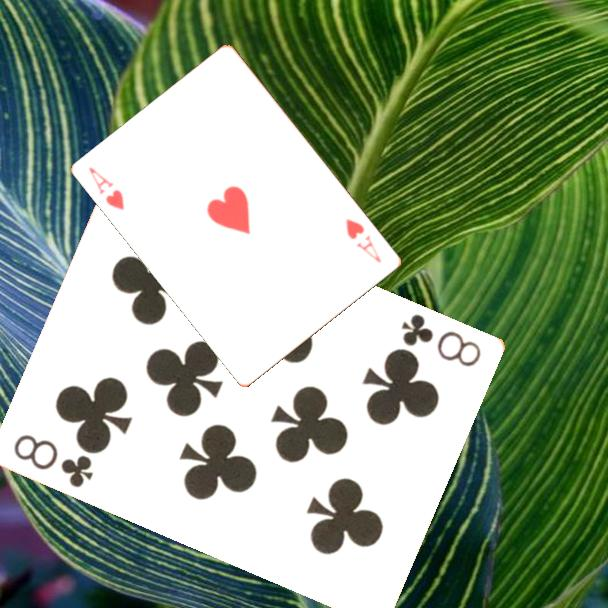c08: (10, 430, 97, 491), (398, 310, 485, 370)
h01: (342, 215, 385, 266), (86, 163, 128, 213)
